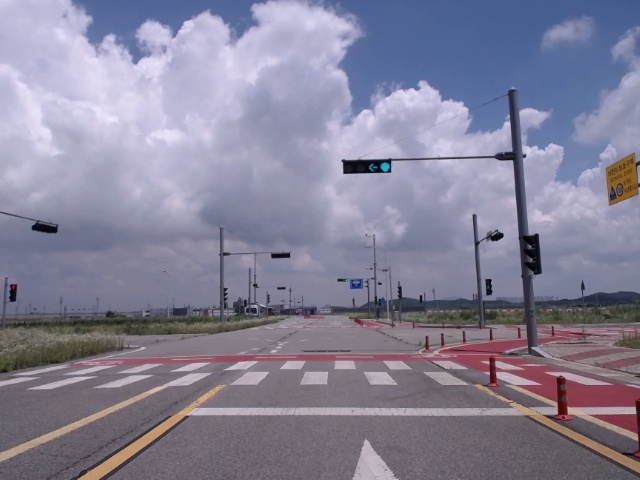all_green_4: (342, 159, 394, 176)
